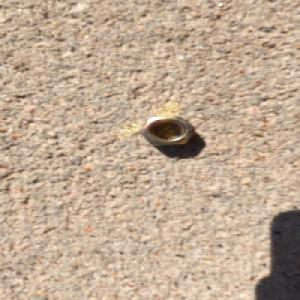Nut: (139, 114, 199, 148)
